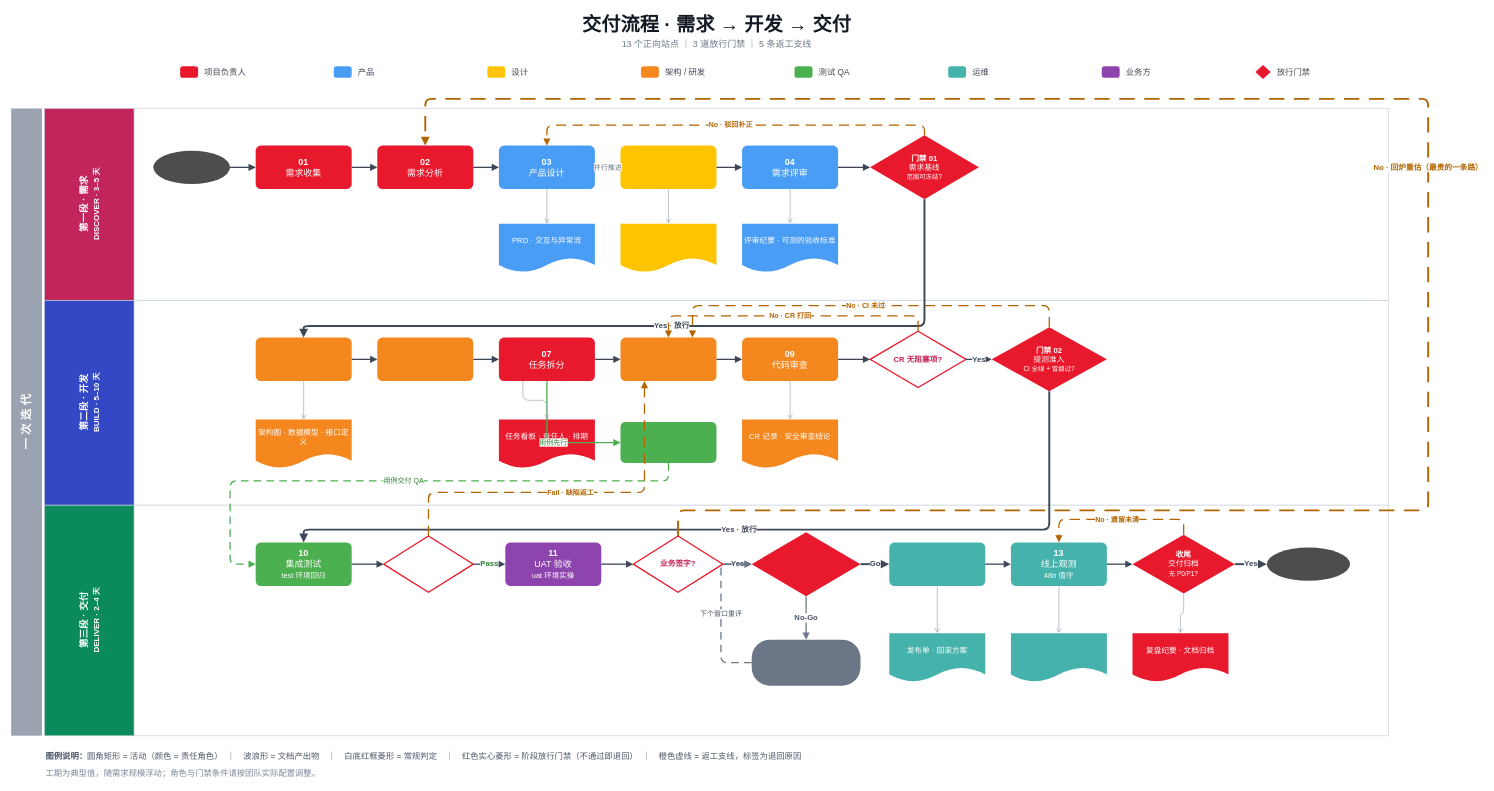
This 1494x791 diagram has some shape labels left out. The box of each missing label's shape, as (x1, y1, x2, y2) in pixels:
05 技术方案: (255, 337, 351, 381)
06 方案评审: (377, 337, 473, 381)
08 编码自测 单测 ≥ 80%: (620, 337, 716, 381)
12 发布上线: (889, 542, 985, 586)
HOLD 等下个发布窗口: (751, 639, 860, 685)
UI / UX 设计: (620, 145, 716, 189)
交付完成: (1267, 547, 1350, 580)
原型 · 设计稿: (620, 223, 716, 272)
回归通过?: (383, 535, 474, 593)
稳定性报告: (1011, 633, 1107, 682)
设计测试用例: (620, 422, 716, 463)
门禁 03 发布评审 Go / No-Go?: (751, 532, 860, 596)
需求进入: (153, 150, 230, 184)
